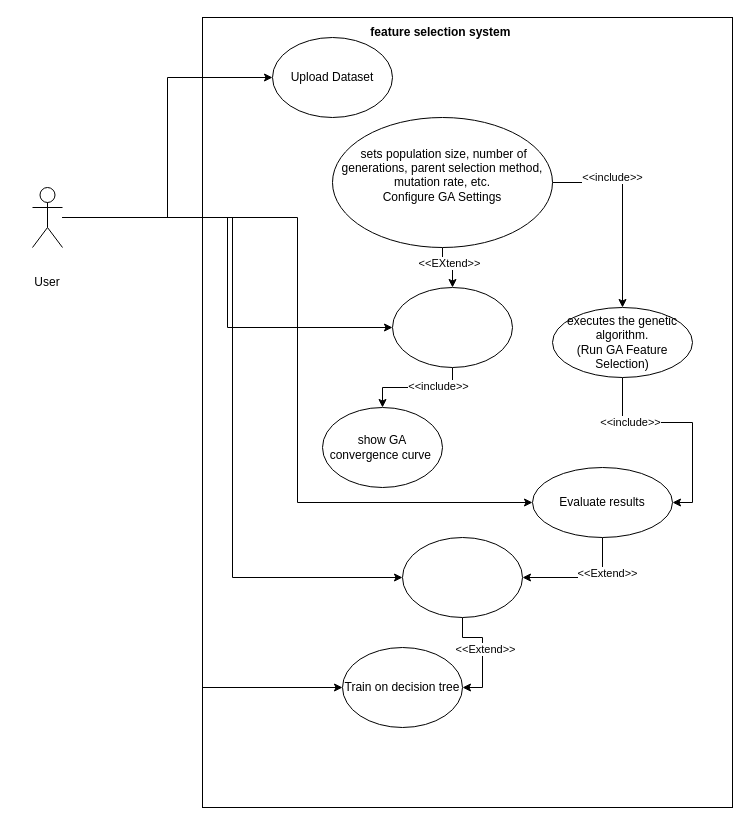
Image size: 750x825. Some labels were removed from this diagram. The box of each missing label's shape, as (x1, y1, x2, y2) in pixels:
Actor: (32, 186, 62, 248)
run experiments: (392, 286, 512, 368)
saves selected features or generated visualizations. (export results): (402, 536, 522, 618)
